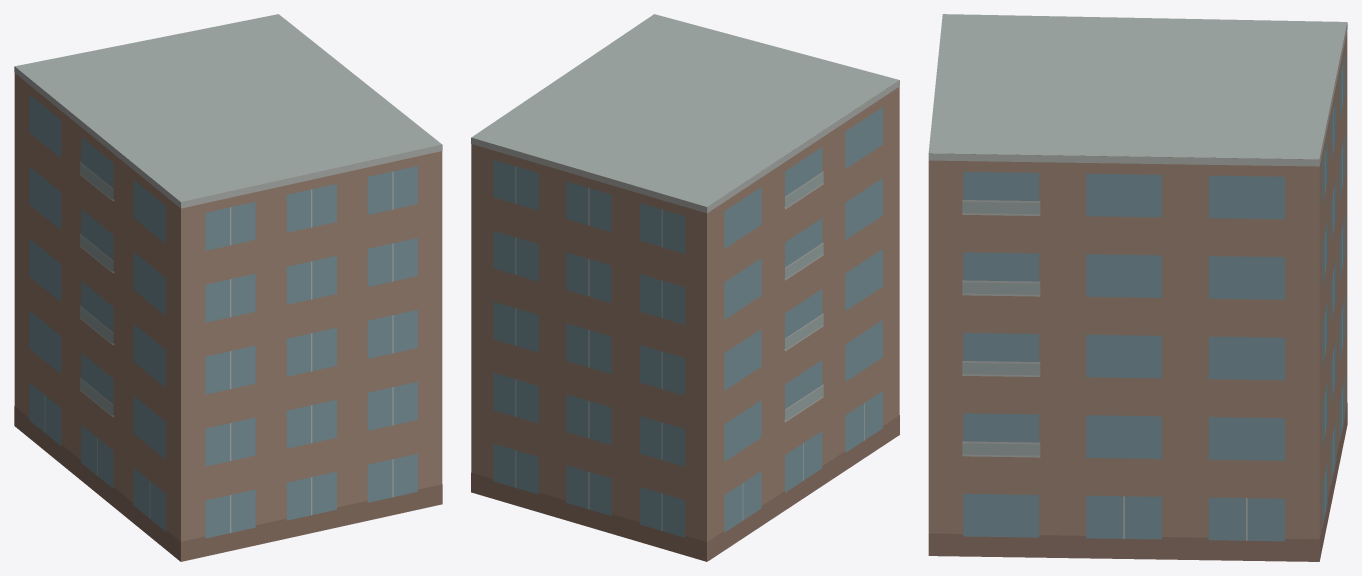
The model's file is survey-upis-32852717.glb.
3 views of the same model, side by side, from view 1: azimuth 30°, elevation 25°; view 2: azimuth 150°, elevation 25°; view 3: azimuth 270°, elevation 25° (orthographic). The views are drawn at different scales.
Parts seen in each view (by area): view 1: survey-upis-32852717.tmp; view 2: survey-upis-32852717.tmp; view 3: survey-upis-32852717.tmp.
Part boxes in pixels (x1,y1,x2,y2): survey-upis-32852717.tmp: [14, 14, 442, 561]; survey-upis-32852717.tmp: [471, 14, 899, 561]; survey-upis-32852717.tmp: [928, 14, 1347, 561].
Size of the model in its own units: 10.62 by 13.7 by 12.93.
